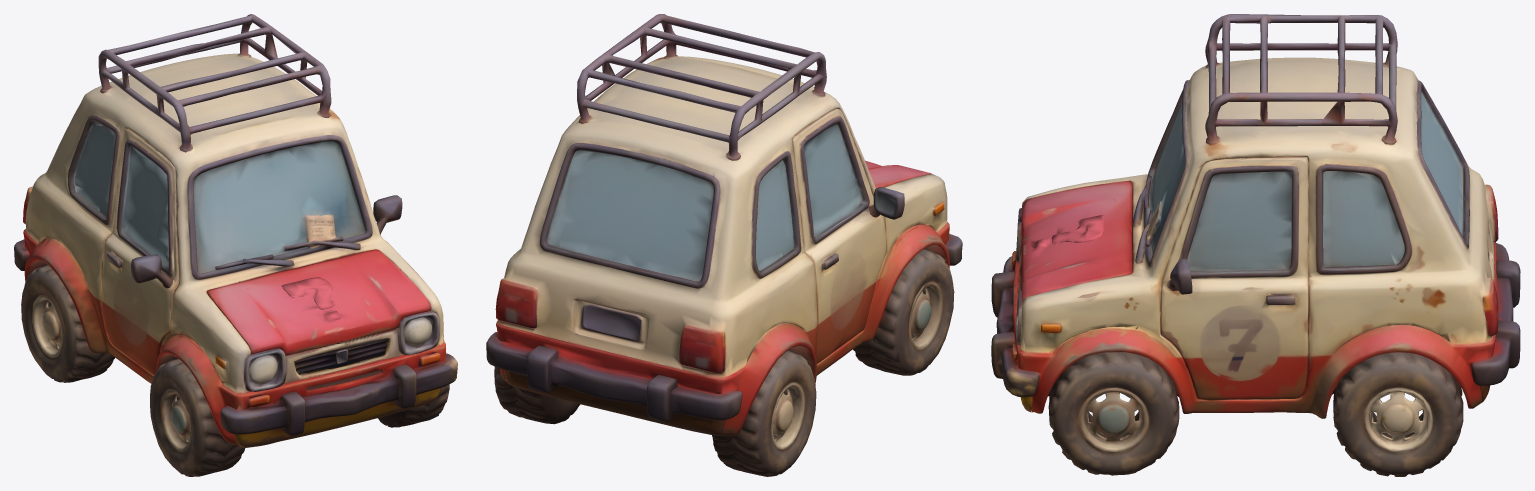
File: parked_sedan.glb
3 renders of one model, left to right at view 1: azimuth 30°, elevation 25°; view 2: azimuth 150°, elevation 25°; view 3: azimuth 270°, elevation 25°, orthographic. The views are drawn at different scales.
Visible parts, largest first — view 1: tripo_part_0, tripo_part_6, tripo_part_4, tripo_part_11, tripo_part_10, tripo_part_1, tripo_part_5, tripo_part_12, tripo_part_17, tripo_part_7, tripo_part_3, tripo_part_15 (+2 smaller); view 2: tripo_part_0, tripo_part_4, tripo_part_10, tripo_part_1, tripo_part_17, tripo_part_9, tripo_part_2, tripo_part_14, tripo_part_6, tripo_part_8; view 3: tripo_part_0, tripo_part_3, tripo_part_2, tripo_part_4, tripo_part_6, tripo_part_16, tripo_part_11, tripo_part_15, tripo_part_14, tripo_part_13.
Boxes of the visible parts, x1=… form: tripo_part_0: x1=14, y1=53, x2=445, y2=446; tripo_part_6: x1=207, y1=249, x2=431, y2=355; tripo_part_4: x1=98, y1=14, x2=331, y2=152; tripo_part_11: x1=220, y1=353, x2=457, y2=436; tripo_part_10: x1=150, y1=358, x2=245, y2=476; tripo_part_1: x1=21, y1=265, x2=114, y2=382; tripo_part_5: x1=283, y1=311, x2=439, y2=384; tripo_part_12: x1=234, y1=388, x2=440, y2=447; tripo_part_17: x1=74, y1=125, x2=115, y2=216; tripo_part_7: x1=243, y1=348, x2=286, y2=391; tripo_part_3: x1=378, y1=352, x2=449, y2=427; tripo_part_15: x1=281, y1=277, x2=338, y2=309; tripo_part_0: x1=486, y1=56, x2=949, y2=435; tripo_part_4: x1=577, y1=14, x2=826, y2=160; tripo_part_10: x1=853, y1=249, x2=954, y2=375; tripo_part_1: x1=712, y1=350, x2=816, y2=476; tripo_part_17: x1=756, y1=160, x2=793, y2=264; tripo_part_9: x1=571, y1=298, x2=648, y2=348; tripo_part_2: x1=494, y1=367, x2=580, y2=424; tripo_part_14: x1=646, y1=375, x2=679, y2=422; tripo_part_6: x1=865, y1=160, x2=931, y2=188; tripo_part_8: x1=869, y1=187, x2=904, y2=219; tripo_part_0: x1=1012, y1=57, x2=1520, y2=418; tripo_part_3: x1=1048, y1=352, x2=1179, y2=475; tripo_part_2: x1=1333, y1=352, x2=1463, y2=476; tripo_part_4: x1=1205, y1=14, x2=1397, y2=144; tripo_part_6: x1=1021, y1=180, x2=1133, y2=302; tripo_part_16: x1=1323, y1=171, x2=1404, y2=266; tripo_part_11: x1=991, y1=256, x2=1040, y2=397; tripo_part_15: x1=1051, y1=215, x2=1103, y2=246; tripo_part_14: x1=1496, y1=260, x2=1520, y2=307; tripo_part_13: x1=1167, y1=258, x2=1192, y2=294.
Bounding box in the file's own units: 0.634 × 0.7369 × 0.9802.
1 material, 1 textured.
